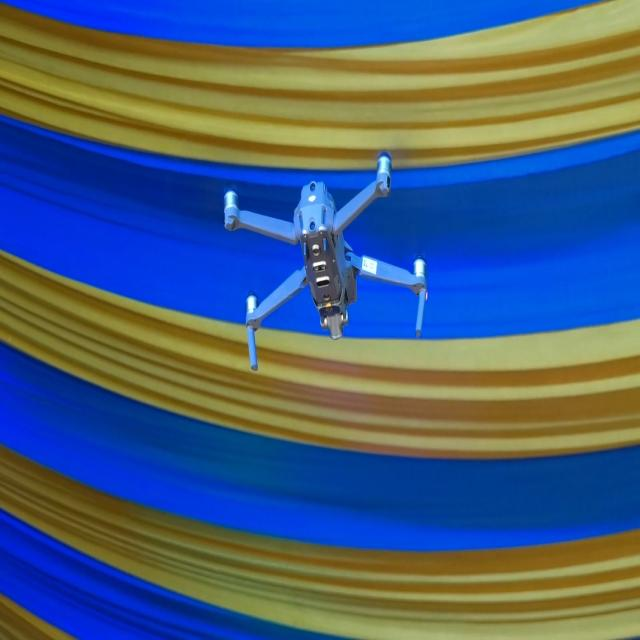Drone: (225, 151, 428, 372)
